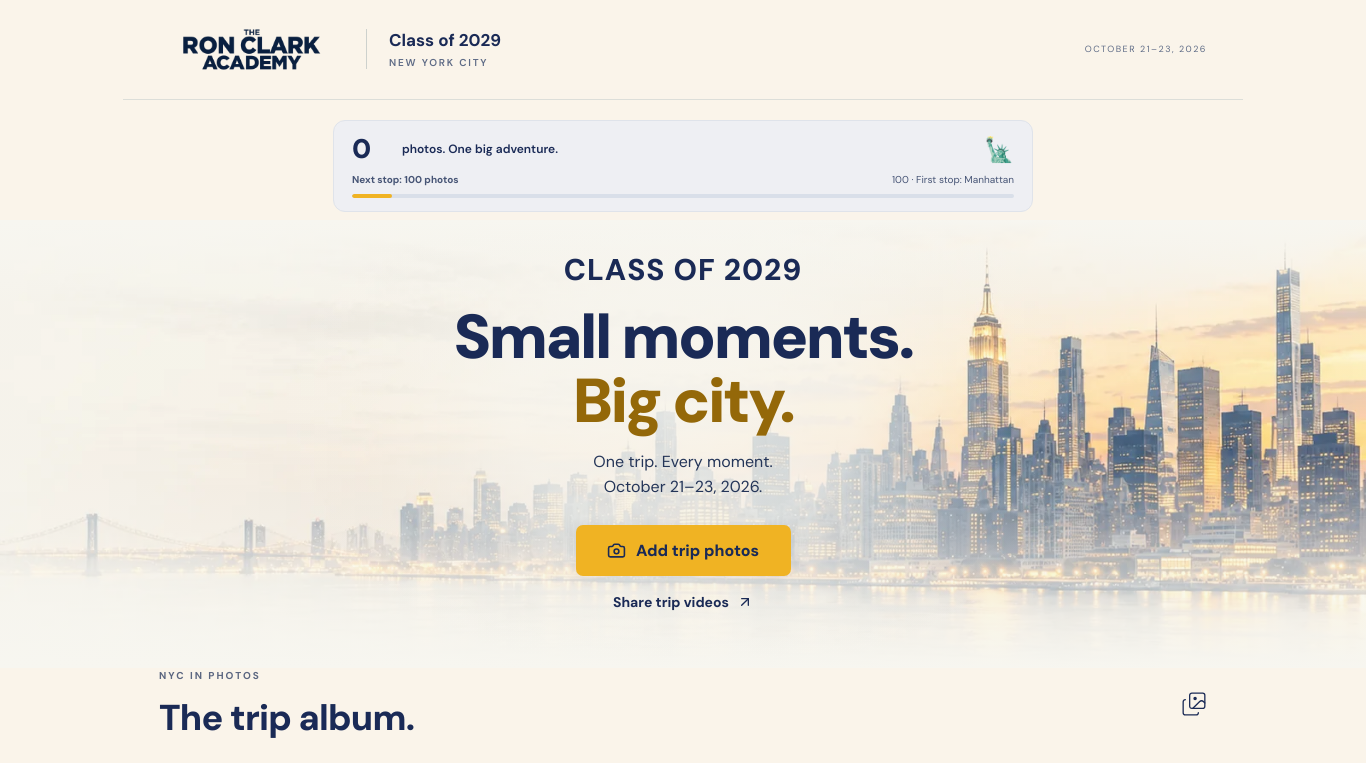
Scenario: remembers the upload group and lets a later batch switch groups
The image size is (1366, 763).
Step 1. Click the button "Add trip photos" → {"x": 683, "y": 550}, box x1=576 y1=525 x2=790 y2=576
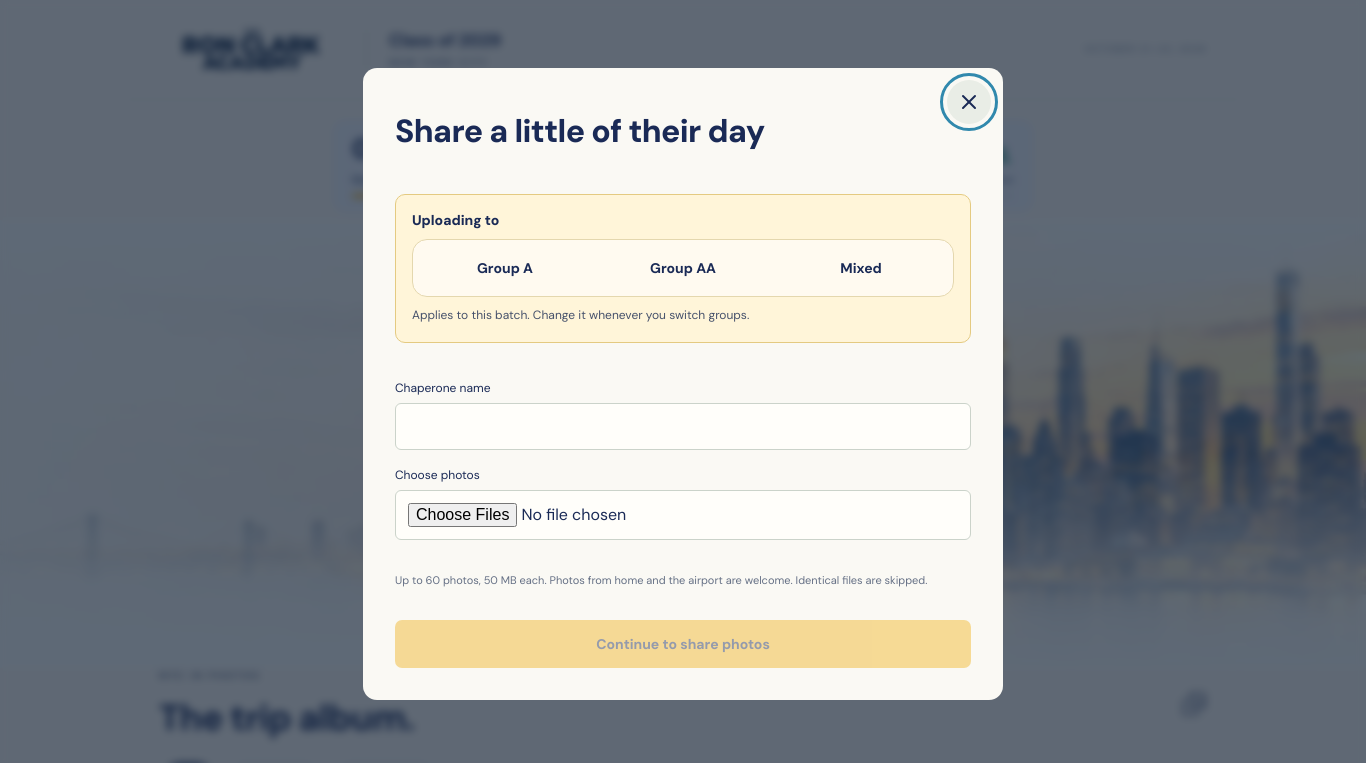
Step 2. Click the radio button labelled "Group A" → {"x": 505, "y": 268}, box x1=477 y1=259 x2=533 y2=277
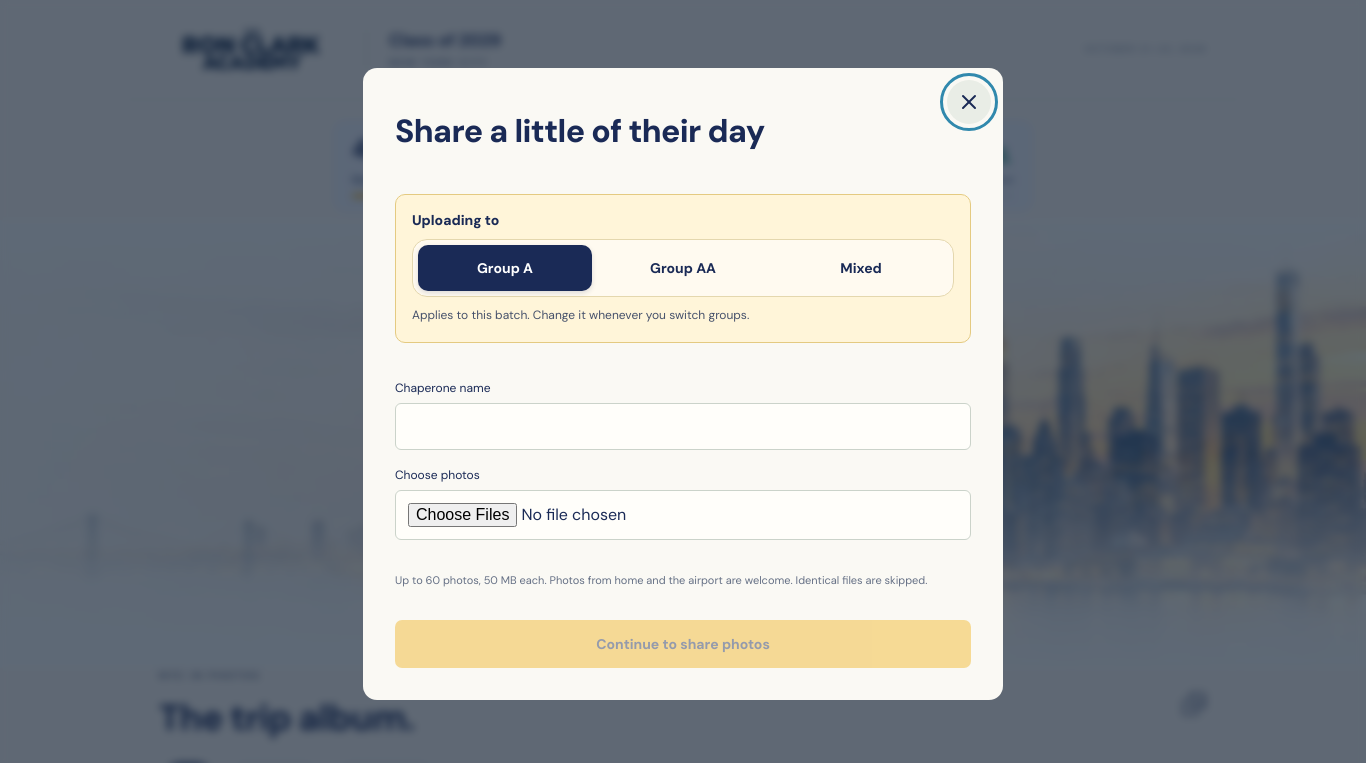
Step 3. Click the radio button labelled "Group AA" → {"x": 683, "y": 268}, box x1=650 y1=259 x2=716 y2=277
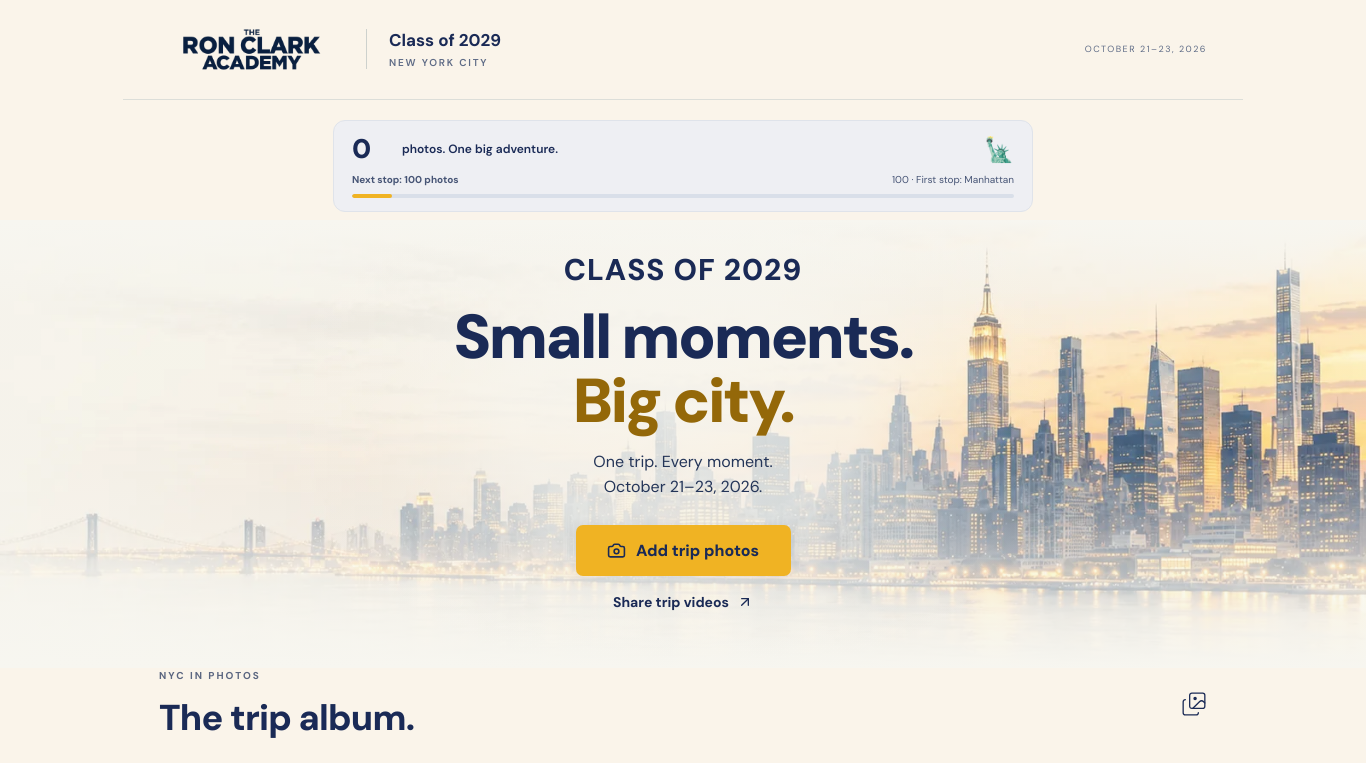
Step 4. Click the button "Add trip photos" → {"x": 683, "y": 550}, box x1=576 y1=525 x2=790 y2=576
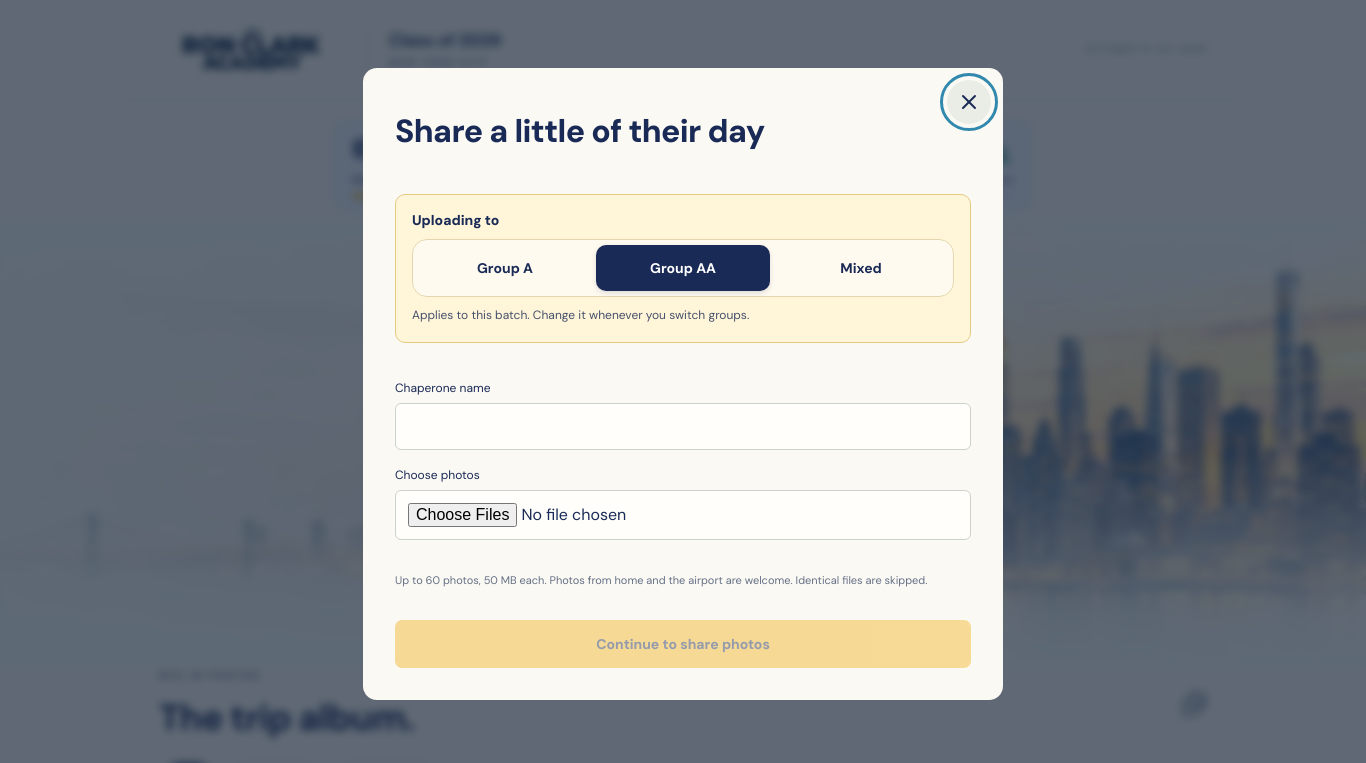
Check: the radio button labelled "Group AA" holds "AA", box x1=596 y1=245 x2=770 y2=291
